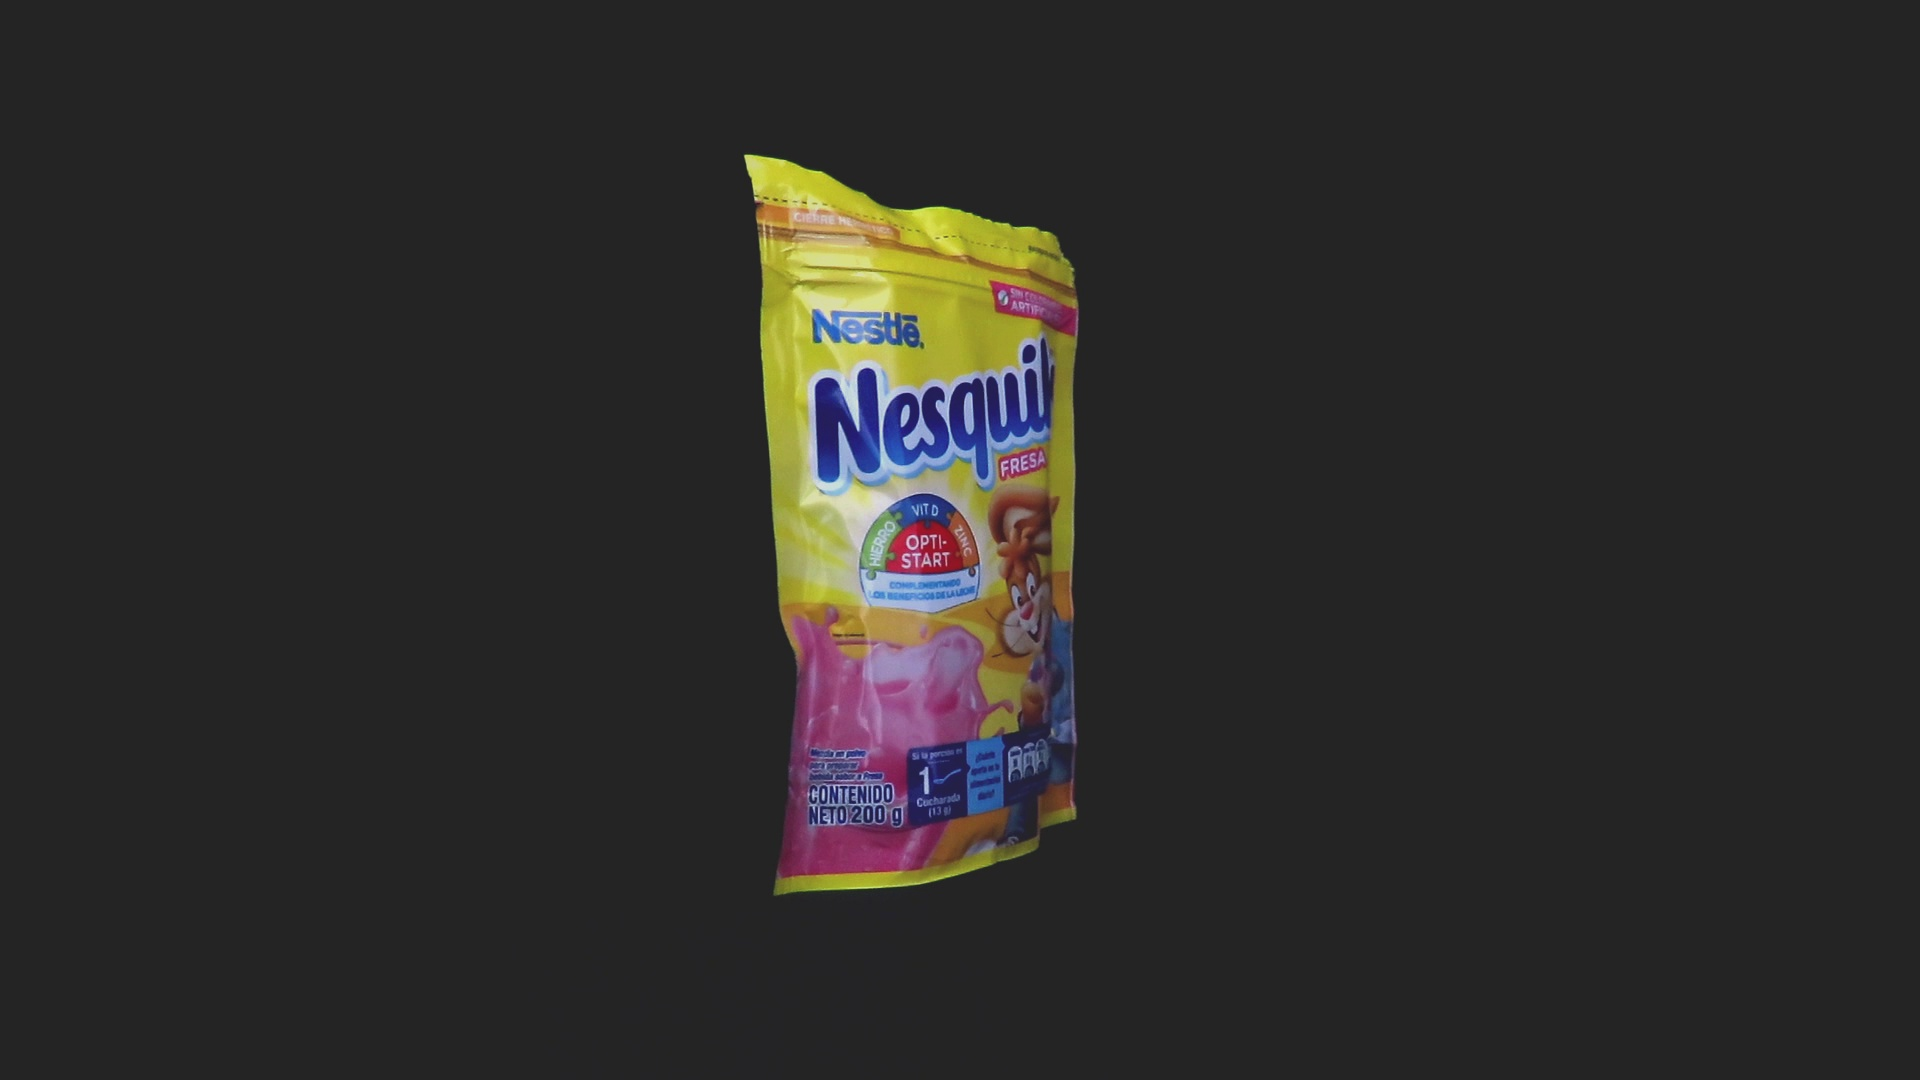COL0170305DYP20000: (738, 149, 1085, 902)
